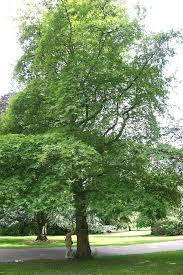tree: (1, 1, 182, 255)
